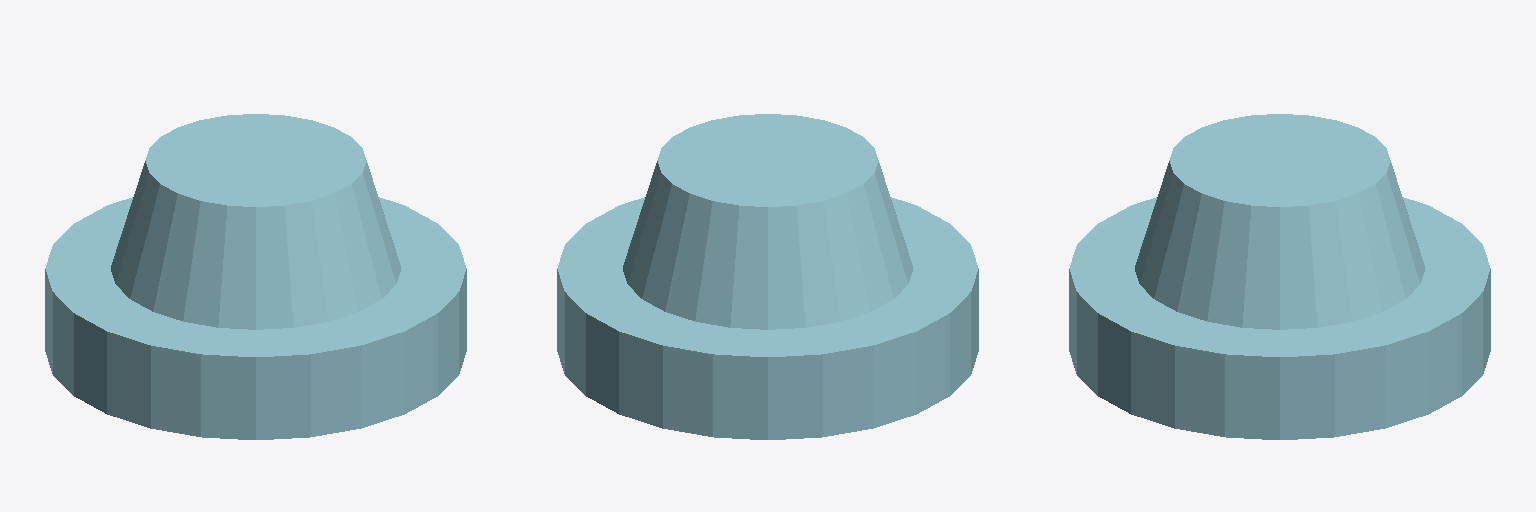
Rendered from MiddlePart.obj.
3 renders of one model, left to right at view 1: azimuth 30°, elevation 25°; view 2: azimuth 150°, elevation 25°; view 3: azimuth 270°, elevation 25°, orthographic.
Visible parts, largest first — view 1: weapon_blaster; view 2: weapon_blaster; view 3: weapon_blaster.
Boxes of the visible parts, x1,y1,x2,y2 form: weapon_blaster: [45, 114, 466, 439]; weapon_blaster: [557, 114, 978, 439]; weapon_blaster: [1069, 114, 1490, 439].
Size of the model in its own units: 0.4598 by 0.23 by 0.4598.